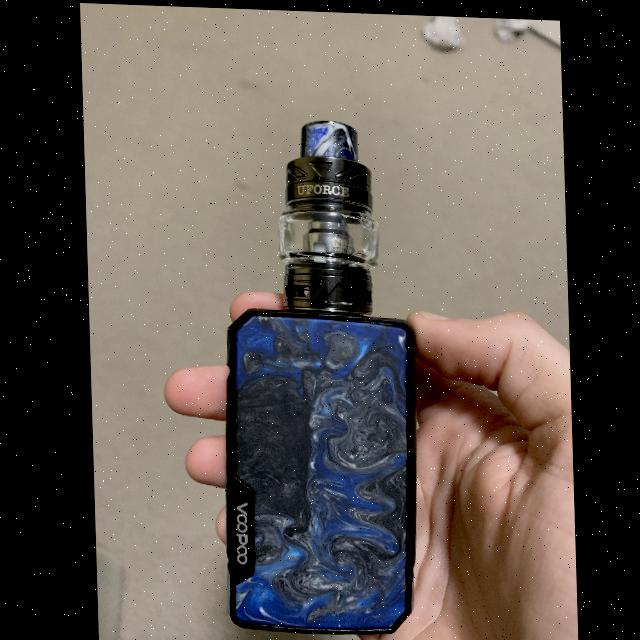vape: (211, 114, 422, 636)
